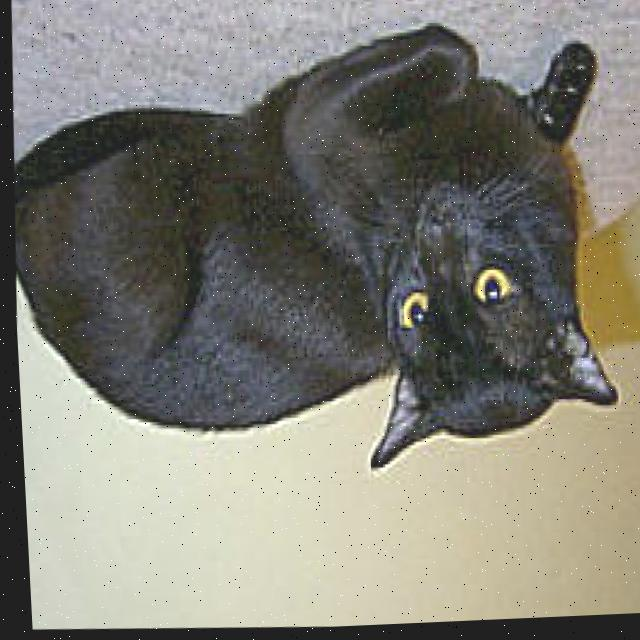Bombay: (1, 9, 633, 497)
